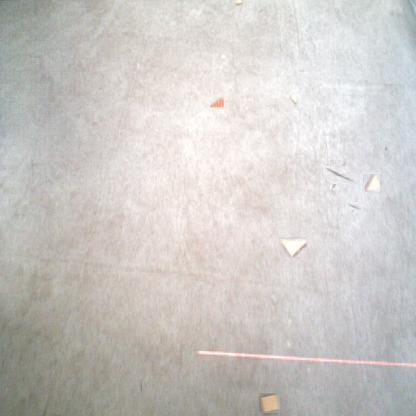dirty: (279, 238, 307, 258), (259, 393, 279, 413), (364, 174, 381, 192), (209, 96, 224, 108), (289, 94, 299, 106), (233, 1, 243, 6)
mark: (327, 163, 351, 187), (348, 201, 360, 212), (138, 380, 144, 392), (384, 144, 388, 152)
